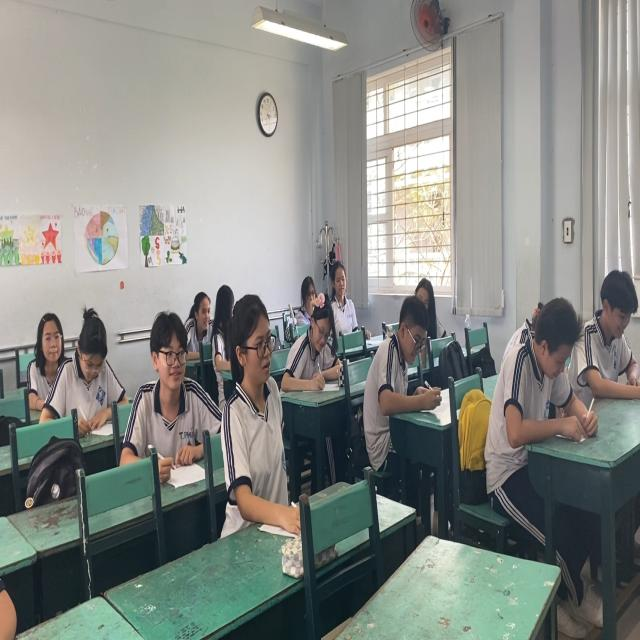cheating: (205, 266, 236, 354)
not_cheating: (228, 291, 294, 488), (510, 298, 592, 451), (30, 295, 113, 409), (578, 261, 640, 409), (143, 319, 205, 457), (368, 298, 432, 423), (296, 305, 348, 416), (326, 247, 362, 340), (191, 274, 211, 342), (294, 260, 319, 308)
